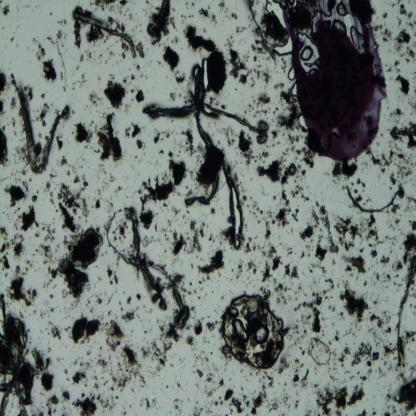Air bubble: (231, 186, 247, 252), (266, 1, 286, 22), (271, 36, 294, 54), (202, 59, 210, 90), (300, 45, 314, 60), (287, 66, 295, 82)
Background material: (215, 288, 289, 374), (49, 224, 105, 301), (0, 293, 33, 416), (108, 345, 146, 395), (315, 382, 367, 416), (94, 108, 124, 163), (100, 205, 127, 263), (274, 184, 310, 227), (70, 346, 106, 386), (137, 176, 177, 211), (334, 214, 381, 241), (194, 142, 222, 187), (142, 337, 176, 374), (30, 341, 55, 390), (74, 390, 120, 416), (341, 279, 368, 322), (149, 0, 176, 42), (180, 23, 217, 52), (6, 275, 38, 308), (391, 375, 416, 416), (68, 317, 104, 345), (207, 52, 229, 96), (46, 36, 66, 84), (57, 181, 83, 215), (369, 306, 395, 340), (12, 203, 40, 232), (156, 314, 182, 345), (196, 248, 224, 276), (104, 80, 129, 111), (390, 122, 416, 151), (394, 150, 416, 184), (262, 13, 285, 44), (240, 195, 264, 224), (243, 236, 277, 256), (102, 322, 126, 350), (168, 150, 186, 187), (59, 203, 80, 234), (330, 159, 362, 179), (228, 45, 246, 80), (244, 0, 262, 35), (310, 336, 330, 367), (303, 300, 321, 334), (324, 216, 340, 254), (257, 160, 282, 184), (349, 341, 372, 367), (10, 136, 29, 167), (73, 120, 93, 148), (274, 106, 298, 129), (160, 44, 181, 70), (230, 388, 249, 416), (342, 254, 368, 274), (250, 384, 266, 416), (5, 184, 26, 208), (36, 241, 56, 266), (292, 359, 309, 388), (33, 99, 51, 126), (332, 345, 351, 370), (110, 220, 131, 242), (280, 164, 302, 184), (40, 220, 58, 244), (403, 231, 416, 264), (181, 129, 195, 159), (108, 12, 129, 32), (40, 59, 58, 82), (42, 394, 60, 416), (188, 229, 203, 255), (32, 37, 48, 61), (0, 127, 9, 169), (138, 209, 156, 230), (9, 233, 26, 255), (302, 145, 316, 170), (172, 231, 186, 256), (88, 25, 106, 44), (45, 320, 61, 341), (72, 18, 83, 48), (270, 276, 288, 294), (237, 68, 256, 85), (395, 74, 411, 94), (366, 146, 382, 166), (226, 166, 242, 186), (0, 70, 13, 93), (92, 0, 119, 11), (252, 91, 270, 107), (194, 348, 213, 363), (219, 226, 233, 246), (322, 276, 336, 296), (278, 352, 290, 375), (171, 68, 187, 85), (260, 256, 270, 283), (395, 29, 413, 44), (278, 144, 290, 166), (217, 0, 230, 20), (253, 36, 266, 56), (401, 329, 416, 346), (338, 237, 356, 251), (71, 73, 85, 91), (300, 224, 314, 242), (373, 271, 391, 285), (257, 119, 267, 144), (316, 244, 329, 263), (22, 256, 35, 275), (88, 90, 104, 105), (122, 306, 138, 321), (270, 256, 284, 273), (223, 128, 236, 146), (380, 152, 394, 168), (280, 89, 294, 104), (262, 68, 273, 87), (263, 220, 272, 243), (81, 196, 90, 219), (389, 107, 406, 119), (169, 396, 181, 413), (311, 208, 320, 230), (0, 254, 11, 272), (22, 82, 33, 100), (143, 233, 156, 248), (220, 346, 232, 362), (55, 32, 67, 48), (406, 44, 416, 62), (383, 342, 395, 357), (246, 258, 257, 274), (192, 320, 203, 336), (288, 135, 299, 151), (0, 1, 11, 17), (131, 122, 142, 138), (242, 152, 258, 163), (119, 43, 129, 60), (80, 174, 90, 191), (96, 163, 106, 180), (258, 285, 271, 298), (197, 5, 210, 18), (48, 267, 60, 281), (35, 131, 50, 142), (291, 264, 300, 282), (62, 103, 71, 121), (55, 135, 65, 151), (283, 382, 291, 402), (394, 368, 407, 380), (179, 284, 192, 296), (170, 205, 184, 216), (60, 388, 71, 402), (223, 388, 234, 402), (391, 260, 403, 272), (301, 312, 312, 325), (380, 254, 391, 267), (136, 89, 146, 103), (0, 241, 10, 255), (70, 296, 80, 310), (34, 141, 42, 158), (405, 196, 416, 208), (276, 295, 288, 306), (272, 397, 282, 410), (284, 262, 292, 278), (316, 291, 324, 307), (243, 46, 251, 62), (136, 43, 145, 57), (154, 130, 163, 144), (260, 107, 271, 118), (192, 405, 203, 416), (398, 184, 406, 199), (105, 264, 113, 279), (384, 27, 394, 39), (394, 14, 402, 29), (356, 176, 366, 188), (236, 265, 243, 282), (346, 264, 354, 278), (389, 170, 397, 184), (60, 153, 68, 167), (0, 227, 8, 241), (106, 200, 114, 214), (266, 374, 274, 388), (292, 303, 303, 313), (265, 207, 275, 218), (394, 42, 404, 53), (318, 205, 328, 216), (187, 335, 196, 347), (206, 371, 215, 383), (168, 91, 177, 103), (10, 95, 17, 110), (22, 178, 29, 193), (319, 14, 332, 22), (0, 99, 6, 116), (135, 138, 145, 148), (293, 335, 302, 346), (300, 169, 309, 180), (344, 327, 353, 338), (189, 305, 196, 319), (310, 262, 322, 270), (293, 324, 301, 336), (70, 160, 78, 172), (43, 181, 51, 193), (108, 170, 116, 182), (269, 129, 278, 139), (206, 321, 216, 330), (173, 274, 182, 284), (35, 407, 45, 416), (373, 23, 383, 32), (49, 190, 55, 205), (106, 293, 114, 304), (205, 390, 216, 398), (286, 246, 294, 257), (196, 367, 204, 378), (226, 35, 234, 46), (368, 241, 385, 246), (402, 272, 409, 284), (209, 396, 216, 408), (221, 362, 228, 374), (249, 76, 255, 90), (124, 125, 131, 137), (366, 368, 373, 380), (134, 292, 143, 301), (394, 218, 402, 228), (380, 358, 390, 366), (328, 374, 338, 382), (96, 293, 102, 306), (95, 199, 101, 212), (292, 290, 298, 303), (260, 151, 267, 162), (409, 364, 416, 375), (400, 4, 407, 15), (334, 330, 341, 341), (409, 220, 416, 231), (56, 18, 67, 25), (281, 57, 286, 72), (410, 100, 416, 112), (10, 116, 16, 128), (152, 396, 158, 408), (274, 82, 283, 90), (230, 12, 239, 20), (61, 367, 68, 377), (170, 18, 177, 28), (208, 232, 215, 242), (385, 392, 392, 402), (15, 264, 20, 278), (190, 219, 197, 229), (119, 0, 129, 7), (256, 70, 262, 81), (317, 233, 323, 244), (391, 205, 399, 213), (372, 352, 380, 360), (385, 64, 393, 72), (201, 336, 209, 344), (396, 96, 404, 104), (30, 194, 38, 202), (303, 408, 311, 416), (328, 304, 336, 312), (384, 234, 392, 242), (305, 243, 312, 252), (356, 193, 363, 202), (126, 295, 133, 304), (254, 109, 261, 118), (134, 62, 140, 72), (48, 304, 54, 314), (294, 398, 299, 410), (212, 14, 217, 26), (74, 174, 80, 184), (359, 375, 367, 382), (406, 21, 414, 28), (378, 372, 385, 380), (78, 56, 86, 63), (321, 266, 328, 274), (358, 247, 366, 254), (402, 205, 410, 212), (64, 324, 71, 332), (93, 147, 101, 154), (87, 52, 94, 60), (244, 222, 249, 233), (273, 106, 279, 115), (199, 230, 205, 239), (314, 199, 320, 208), (262, 188, 268, 197), (219, 379, 224, 389), (388, 361, 393, 371), (266, 399, 271, 409), (110, 48, 115, 58), (371, 250, 378, 257), (394, 117, 401, 124), (387, 383, 393, 391), (200, 221, 206, 229), (397, 227, 403, 235), (194, 381, 200, 389), (330, 258, 336, 266), (367, 358, 373, 366), (210, 208, 216, 216), (388, 224, 396, 230), (164, 131, 172, 137), (393, 60, 401, 66), (146, 397, 150, 409), (383, 10, 389, 18), (270, 218, 276, 226), (408, 11, 414, 19), (382, 36, 390, 42), (202, 385, 208, 393), (40, 91, 46, 99), (115, 186, 121, 194), (377, 366, 383, 374), (114, 274, 118, 286), (130, 73, 136, 81), (109, 72, 115, 80), (296, 148, 302, 156), (304, 328, 309, 337), (40, 309, 44, 320), (392, 238, 398, 245), (122, 409, 128, 416), (404, 57, 410, 64), (212, 365, 218, 372), (216, 270, 222, 277), (205, 407, 211, 414), (395, 67, 402, 73), (239, 260, 246, 266), (207, 97, 213, 104), (123, 77, 129, 84), (388, 140, 393, 148), (394, 364, 399, 372), (300, 250, 305, 258), (384, 411, 392, 416), (16, 4, 20, 14), (221, 102, 226, 110), (253, 56, 258, 64), (373, 300, 379, 306), (201, 276, 207, 282), (248, 105, 254, 111), (290, 226, 294, 235), (186, 325, 192, 331), (206, 275, 212, 281), (60, 72, 64, 81), (213, 99, 219, 105), (390, 2, 396, 8), (9, 36, 15, 42), (146, 0, 152, 6), (409, 293, 416, 298), (380, 167, 385, 174), (256, 370, 261, 377), (331, 180, 338, 185), (344, 370, 351, 375), (180, 14, 187, 19), (86, 298, 90, 306), (301, 334, 305, 342), (186, 396, 190, 404), (320, 216, 324, 224), (155, 224, 159, 232), (314, 366, 318, 374), (363, 280, 368, 286), (34, 234, 40, 239), (50, 173, 56, 178), (409, 111, 415, 116), (396, 0, 401, 6), (366, 197, 372, 202), (88, 0, 94, 5), (349, 375, 355, 380), (159, 149, 164, 155), (298, 285, 302, 292), (272, 195, 276, 202), (228, 217, 232, 224), (214, 401, 218, 408), (412, 41, 416, 48), (412, 19, 416, 26), (104, 379, 108, 386), (302, 349, 306, 356), (368, 344, 372, 351), (376, 342, 380, 349), (190, 262, 193, 271), (98, 53, 103, 58), (188, 281, 193, 286), (400, 53, 405, 58), (308, 268, 313, 273), (313, 383, 318, 388), (350, 181, 355, 186), (372, 411, 377, 416), (325, 296, 330, 301), (411, 280, 415, 286), (394, 280, 398, 286), (312, 292, 316, 298), (201, 316, 205, 322), (328, 339, 332, 345), (307, 252, 311, 258), (387, 405, 391, 411), (322, 316, 326, 322), (108, 310, 112, 316), (195, 400, 199, 406), (220, 400, 224, 406), (97, 76, 101, 82), (412, 75, 416, 81), (74, 66, 80, 70), (342, 378, 348, 382), (352, 332, 356, 338), (313, 408, 316, 416), (356, 275, 360, 281), (327, 366, 330, 374), (308, 345, 310, 356), (165, 383, 168, 390), (184, 245, 187, 252), (342, 184, 345, 191), (279, 242, 283, 247), (313, 279, 317, 284), (212, 237, 216, 242), (193, 290, 197, 295), (200, 257, 204, 262), (240, 368, 244, 373), (62, 87, 66, 92), (244, 378, 249, 382), (376, 142, 380, 147), (218, 395, 222, 400), (109, 280, 113, 285), (25, 4, 30, 8), (191, 3, 195, 8), (66, 171, 70, 176), (354, 189, 358, 194), (134, 154, 138, 159), (354, 323, 358, 328), (90, 308, 93, 314), (264, 370, 267, 376), (332, 321, 335, 327), (221, 294, 224, 300), (413, 89, 416, 95), (230, 268, 234, 272), (398, 283, 402, 287), (246, 276, 250, 280), (178, 384, 182, 388), (244, 374, 248, 378), (198, 281, 202, 285), (195, 255, 199, 259), (386, 105, 390, 109), (229, 278, 233, 282), (211, 335, 215, 339), (232, 384, 236, 388), (394, 357, 398, 361), (321, 333, 325, 337), (310, 248, 314, 252), (50, 295, 54, 299), (214, 320, 218, 324), (1, 26, 5, 30), (186, 236, 190, 240), (388, 49, 392, 53), (105, 60, 109, 64), (340, 312, 344, 316), (36, 190, 40, 194), (407, 0, 411, 4), (304, 293, 308, 297), (386, 209, 389, 214), (394, 275, 399, 278), (380, 133, 383, 138), (144, 329, 147, 334), (120, 307, 123, 312), (197, 295, 200, 300), (259, 378, 262, 383), (188, 15, 193, 18), (29, 177, 32, 182), (269, 408, 272, 413), (365, 295, 368, 300), (342, 316, 345, 321), (370, 296, 373, 301), (407, 100, 410, 104), (357, 371, 360, 375), (296, 392, 299, 396), (374, 368, 377, 372), (389, 186, 392, 190), (386, 296, 389, 300), (396, 288, 399, 292), (411, 287, 414, 291), (249, 372, 252, 376), (262, 376, 265, 380), (413, 32, 416, 36), (214, 310, 217, 314), (207, 314, 210, 318), (251, 285, 255, 288), (288, 403, 290, 409), (49, 12, 52, 16), (337, 284, 340, 288), (363, 202, 366, 206), (386, 285, 389, 289), (244, 109, 246, 114), (229, 377, 231, 382), (362, 168, 364, 173), (410, 303, 412, 308), (380, 160, 383, 163), (413, 71, 416, 74), (390, 251, 393, 254), (225, 413, 228, 416), (211, 291, 214, 294), (330, 296, 333, 299), (291, 284, 293, 288), (249, 280, 251, 284), (119, 302, 121, 306), (230, 290, 232, 294), (211, 410, 213, 414), (204, 292, 206, 296), (388, 128, 390, 132), (405, 106, 407, 110), (378, 174, 380, 178), (414, 306, 416, 310), (400, 247, 402, 250), (412, 312, 415, 314), (381, 393, 383, 396), (282, 413, 284, 416), (385, 402, 387, 405), (241, 375, 243, 378), (322, 329, 324, 332), (132, 90, 134, 93), (38, 4, 40, 7), (362, 190, 365, 192), (300, 347, 302, 350), (338, 313, 340, 316), (413, 1, 415, 4), (376, 258, 378, 260), (385, 300, 387, 302), (390, 247, 392, 249), (256, 280, 258, 282), (286, 403, 288, 405), (35, 6, 37, 8), (376, 262, 378, 264), (382, 408, 383, 411), (378, 389, 379, 391), (376, 383, 378, 384)
Cellulose filter fibre: (10, 70, 61, 176), (126, 211, 166, 313), (70, 8, 138, 50), (152, 260, 192, 330), (395, 254, 416, 366), (202, 102, 260, 133), (344, 184, 400, 214), (182, 172, 221, 208)
Cotton: (146, 66, 223, 213)
Diatom: (238, 136, 252, 153)
Pen: (282, 2, 388, 166)
